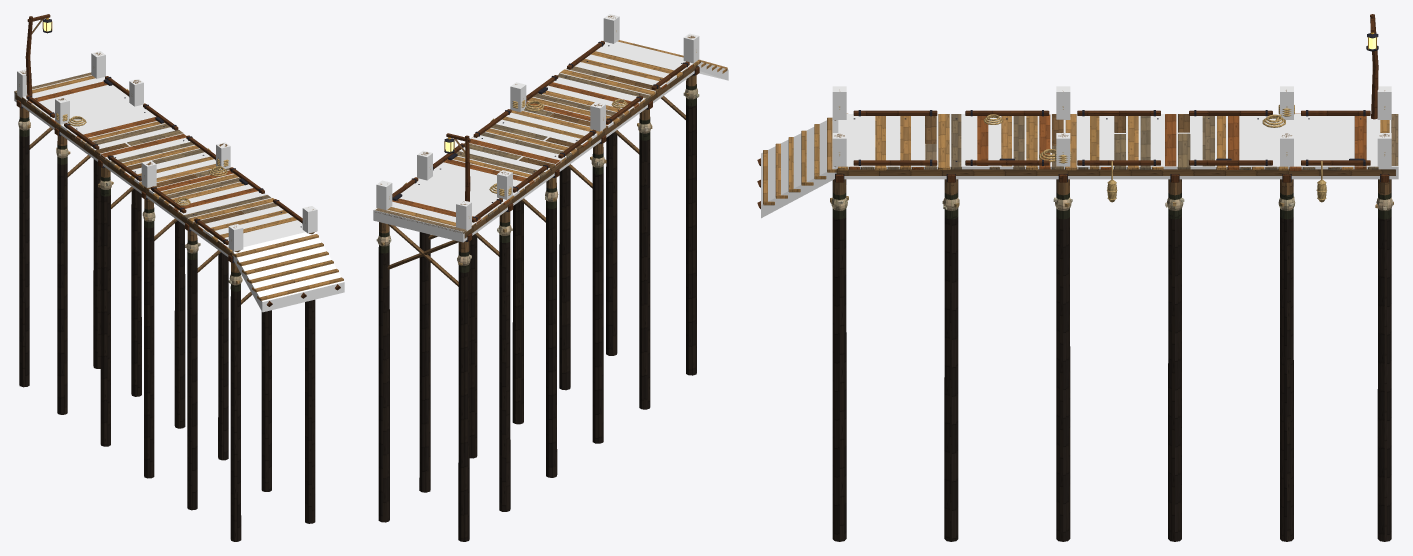
Rendered from dock_pier.glb.
The picture shows the model from 3 angles, left to right: view 1: azimuth 30°, elevation 25°; view 2: azimuth 150°, elevation 25°; view 3: azimuth 270°, elevation 25°; orthographic projection. The views are drawn at different scales.
Visible parts, largest first — view 1: DockPier, col_dock_deck, col_dock_ramp, col_post_0_L, col_post_0_R; view 2: DockPier, col_dock_deck, col_post_0_R, col_post_0_L, col_post_5_R, col_post_4_R, col_post_2_L, col_post_5_L; view 3: DockPier, col_dock_deck, col_dock_ramp.
Part boxes in pixels (bbox=[...]): DockPier: bbox=[14, 14, 343, 541]; col_dock_deck: bbox=[14, 72, 305, 256]; col_dock_ramp: bbox=[232, 232, 344, 312]; col_post_0_L: bbox=[228, 224, 243, 251]; col_post_0_R: bbox=[302, 206, 317, 233]; DockPier: bbox=[375, 15, 727, 541]; col_dock_deck: bbox=[373, 41, 694, 242]; col_post_0_R: bbox=[603, 14, 619, 43]; col_post_0_L: bbox=[683, 33, 699, 63]; col_post_5_R: bbox=[376, 180, 392, 210]; col_post_4_R: bbox=[417, 150, 432, 180]; col_post_2_L: bbox=[590, 102, 605, 131]; col_post_5_L: bbox=[456, 200, 471, 229]; DockPier: bbox=[757, 14, 1398, 541]; col_dock_deck: bbox=[838, 114, 1398, 179]; col_dock_ramp: bbox=[761, 117, 838, 218].
Size of the model in its own units: 3.86 by 15.11 by 18.36.
7 materials, 5 textured.
